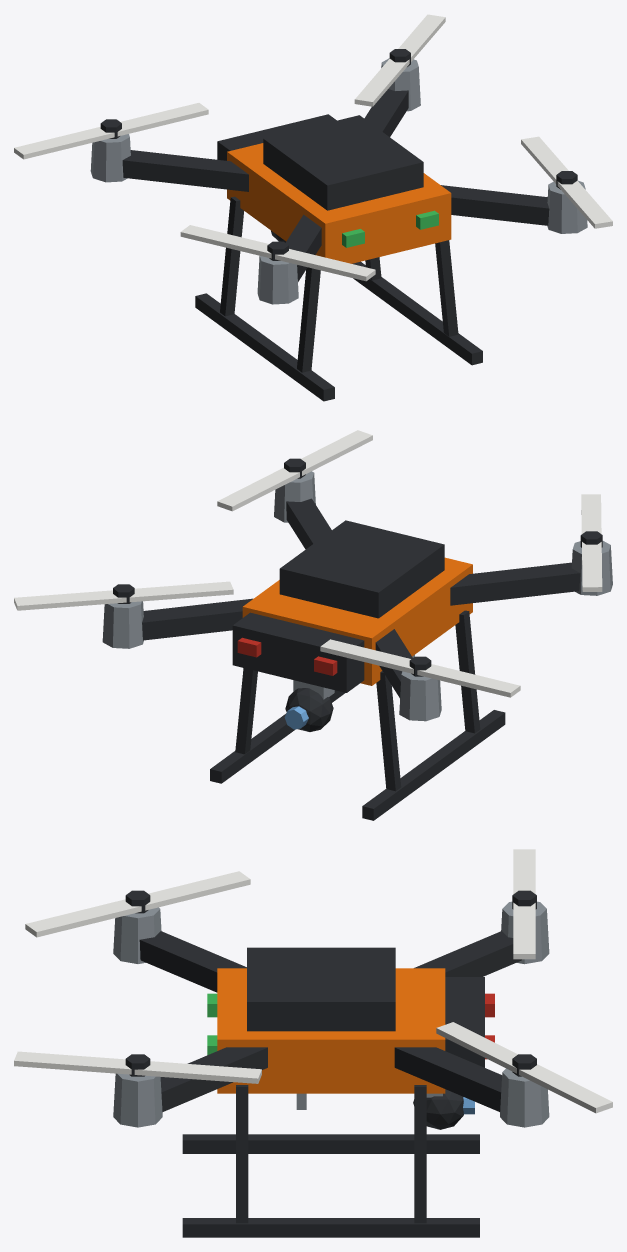
File: drone.fbx
3 views of the same model, one above another, from view 1: azimuth 30°, elevation 25°; view 2: azimuth 150°, elevation 25°; view 3: azimuth 270°, elevation 25° (orthographic). The views are drawn at different scales.
Parts seen in each view (by area): view 1: M__drone, M__prop4, M__prop1, M__prop3, M__prop2; view 2: M__drone, M__prop2, M__prop1, M__prop3, M__prop4; view 3: M__drone, M__prop3, M__prop4, M__prop2, M__prop1.
Part boxes in pixels (left/top/right/bottom): M__drone: left=90, top=58, right=587, bottom=401; M__prop4: left=180, top=225, right=375, bottom=281; M__prop1: left=14, top=103, right=208, bottom=159; M__prop3: left=521, top=136, right=612, bottom=228; M__prop2: left=354, top=14, right=445, bottom=106; M__drone: left=102, top=471, right=612, bottom=820; M__prop2: left=14, top=581, right=233, bottom=610; M__prop1: left=320, top=639, right=520, bottom=697; M__prop3: left=217, top=430, right=372, bottom=511; M__prop4: left=580, top=494, right=602, bottom=591; M__drone: left=113, top=901, right=549, bottom=1237; M__prop3: left=14, top=1051, right=261, bottom=1083; M__prop4: left=25, top=871, right=250, bottom=937; M__prop2: left=436, top=1022, right=612, bottom=1113; M__prop1: left=512, top=849, right=536, bottom=959.
Bounding box in the file's own units: 1.24 × 0.485 × 1.21.
